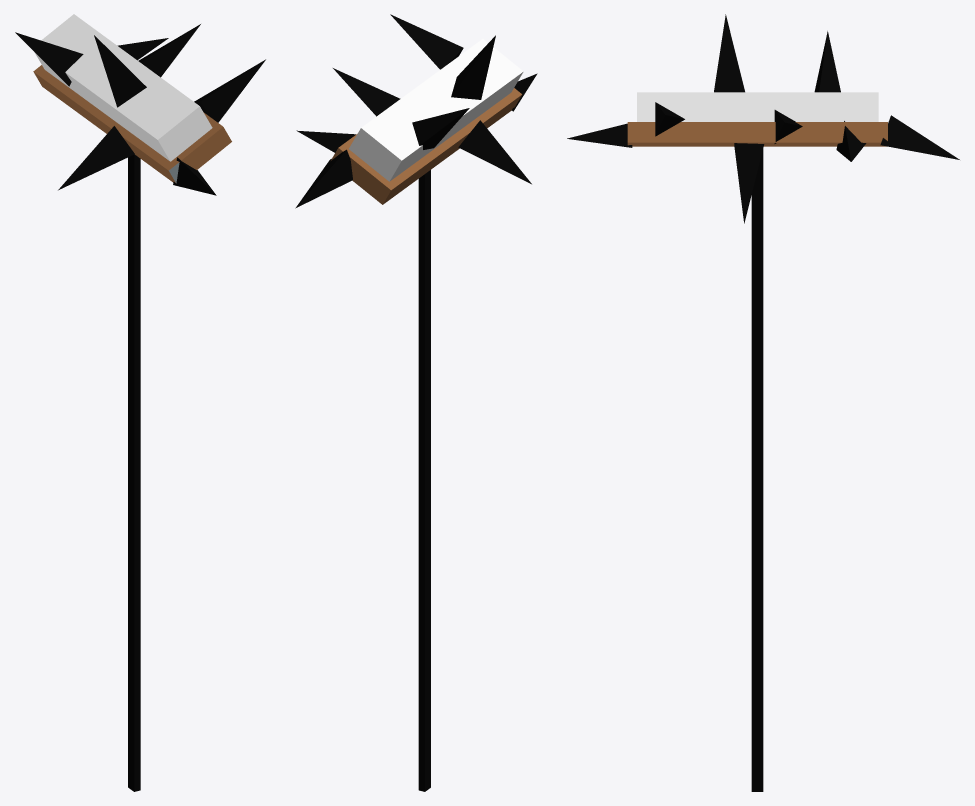
File: S Broom.fbx
3 views of the same model, side by side, from view 1: azimuth 30°, elevation 25°; view 2: azimuth 150°, elevation 25°; view 3: azimuth 270°, elevation 25° (orthographic). The views are drawn at different scales.
Parts seen in each view (by area): view 1: Spiked Broom; view 2: Spiked Broom; view 3: Spiked Broom.
Part boxes in pixels (box(x1,y1,x2,y2)): Spiked Broom: box(15, 14, 265, 791); Spiked Broom: box(295, 14, 537, 791); Spiked Broom: box(567, 14, 959, 791).
Size of the model in its own units: 49.18 by 206 by 98.11.
